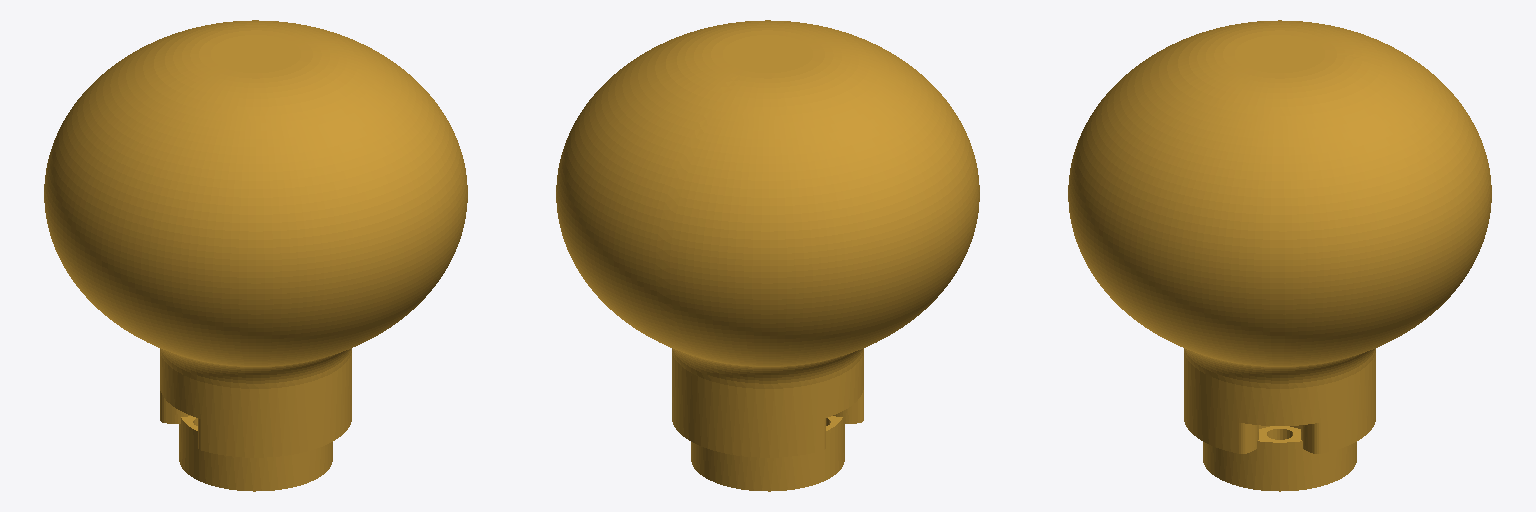
URDF robot description (cb_a8k_doorknob_2_55mm_p60):
<?xml version="1.0"?>
<!-- A8 ContactBench doorknob doorknob_2_55mm + 60 deg pinion: official grip hull (z >= 41 mm), print-model mass. Generated by FoundationTouch tools/contactbench/doorknob_tasks.py -->
<robot name="cb_a8k_doorknob_2_55mm_p60">
  <material name="c"><color rgba="0.80 0.62 0.25 1.0"/></material>
  <link name="object">
    <visual><origin xyz="0 0 0" rpy="0 0 0"/><geometry><mesh filename="a8k_doorknob_2_55mm_p60.obj" scale="1 1 1"/></geometry><material name="c"/></visual>
    <collision><origin xyz="0 0 0" rpy="0 0 0"/><geometry><mesh filename="coll_hull.obj" scale="1 1 1"/></geometry></collision>
    <inertial><mass value="0.028909"/><origin xyz="-0.000000 -0.000002 -0.003584" rpy="0 0 0"/><inertia ixx="1.136140e-05" ixy="-2.805927e-11" ixz="-2.910883e-11" iyy="1.134380e-05" iyz="-1.653719e-09" izz="1.007678e-03"/></inertial>
  </link>
</robot>

--- Facts derived from the render (not from the file) ---
The picture shows the robot from 3 angles, left to right: view 1: azimuth 30°, elevation 25°; view 2: azimuth 150°, elevation 25°; view 3: azimuth 270°, elevation 25°; orthographic projection.
Model cb_a8k_doorknob_2_55mm_p60 with 1 links and 0 joints (none), rooted at object, posed all joints at 0.
Links seen in each view (by area): view 1: object; view 2: object; view 3: object.
Link boxes in pixels (<box>): object: <box>44,20,467,491</box>; object: <box>556,20,979,491</box>; object: <box>1068,20,1491,491</box>.
Size in the robot's own frame: 0.055 by 0.055 by 0.058 metres.
1 mesh visuals loaded from 1 distinct referenced files (1 OBJ).
